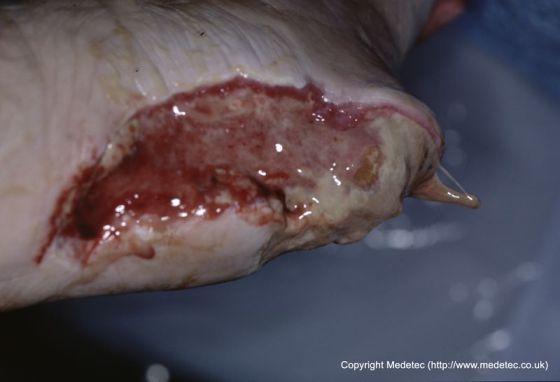NonPU: (16, 59, 448, 272)
